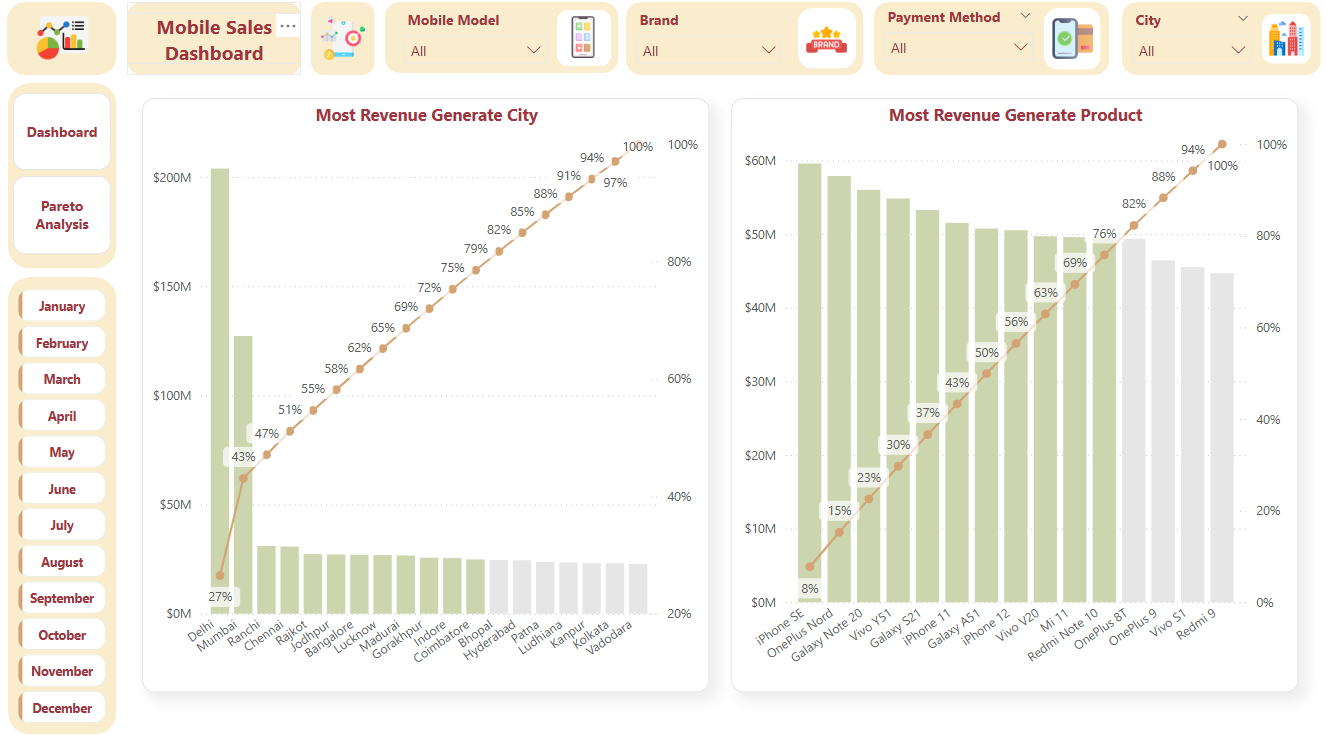

What the dashboard file says about the page in this screenshot:
{"tool":"powerbi","page":{"name":"Pareto Page","canvas":[1280,720],"ordinal":1},"visuals":[{"type":"shape","box":[9.7,9.7,105,70],"z":0,"group":"g4"},{"type":"shape","box":[603,9.7,227.6,70],"z":0,"group":"g5"},{"type":"shape","box":[841.3,9.7,225.7,70],"z":0,"group":"g7"},{"type":"shape","box":[1078.7,9.7,190.6,70],"z":0},{"type":"slicer","fields":{"Values":["dim_payment.Payment Method"]},"box":[841.3,9.7,163.4,69.1],"z":1000,"group":"g7"},{"type":"image","box":[15.5,12.6,94.3,63.2],"z":1000,"group":"g4"},{"type":"slicer","fields":{"Values":["dim_product.Brand"]},"box":[603,12.6,159.4,66.1],"z":1000,"group":"g5"},{"type":"shape","box":[10.7,87.5,104.1,178],"z":1000},{"type":"slicer","fields":{"Values":["dim_city.City"]},"box":[1078.7,12.6,134.2,64.2],"z":2000},{"type":"shape","box":[768.2,15.5,55.7,58.4],"z":2000,"group":"g5"},{"type":"shape","box":[1004.7,15.5,54.5,59.3],"z":2000,"group":"g7"},{"type":"shape","box":[124.5,9.7,167.3,70],"z":3000,"group":"g3"},{"type":"group","id":"g1","title":"Group 1","box":[371.6,9.7,223.7,68.1],"z":3000},{"type":"image","box":[1003.7,20.4,56.4,48.6],"z":3000,"group":"g7"},{"type":"image","box":[771.1,21.4,49.9,48.6],"z":3000,"group":"g5"},{"type":"group","id":"g2","title":"Group 2","box":[301.5,9.7,61.3,70],"z":4000},{"type":"shape","box":[10.7,273.3,104.1,438.7],"z":4000,"group":"g6"},{"type":"group","id":"g3","title":"Group 3","box":[124.5,9.7,167.3,70],"z":5000},{"type":"textbox","title":"Mobile Sales Dashboard","box":[124.5,20.4,167.3,48.6],"z":5000,"group":"g3"},{"type":"group","id":"g4","title":"Group 4","box":[9.7,9.7,105,70],"z":6000},{"type":"shape","box":[301.5,9.7,61.3,70],"z":6000,"group":"g2"},{"type":"shape","box":[371.6,9.7,223.7,68.1],"z":7000,"group":"g1"},{"type":"group","id":"g5","title":"Group 5","box":[603,9.7,227.6,70],"z":7000},{"type":"group","id":"g6","title":"Group 6","box":[10.7,273.3,104.1,438.7],"z":8000},{"type":"group","id":"g7","title":"Group 7","box":[841.3,9.7,225.7,70],"z":9000},{"type":"shape","box":[1212.9,21.4,46.7,47.7],"z":10000},{"type":"image","box":[1212.9,23.3,47.7,42.8],"z":11000},{"type":"advancedSlicerVisual","fields":{"Values":["dim_calendar.Month Name"]},"box":[15.6,280.1,94.3,428.9],"z":11000,"group":"g6"},{"type":"image","box":[306.4,15.5,51.6,57.4],"z":12000,"group":"g2"},{"type":"lineClusteredColumnComboChart","title":"Most Revenue Generate Product","fields":{"Category":["dim_product.Mobile Model"],"Y":["KPI Measures Table.Total Revenue"],"Y2":["Pareton Measures.Product pareto"]},"box":[703.8,101.6,543.6,570.5],"z":12000},{"type":"slicer","fields":{"Values":["dim_product.Mobile Model"]},"box":[380.1,12.5,156.7,64.3],"z":13000,"group":"g1"},{"type":"lineClusteredColumnComboChart","title":"Most Revenue Generate City","fields":{"Y":["KPI Measures Table.Total Revenue"],"Y2":["Pareton Measures.City Pareto"],"Category":["dim_city.City"]},"box":[139,101.6,543.6,570.5],"z":13000},{"type":"shape","box":[536.8,17.3,51.9,53.9],"z":13500,"group":"g1"},{"type":"image","box":[536.8,18.2,50,50.1],"z":14000,"group":"g1"},{"type":"actionButton","box":[15.3,96.8,94,73.8],"z":14000},{"type":"actionButton","box":[15.3,176.4,94,74.8],"z":15000}]}

Visuals, with their boxes in screenshot pixels (x1, y1, x2, y2), scaled from the page's 1280x720 canvas onto the 1326x735 screenshot:
shape: bbox=[10, 10, 119, 81]
shape: bbox=[625, 10, 860, 81]
shape: bbox=[872, 10, 1105, 81]
shape: bbox=[1117, 10, 1315, 81]
slicer - dim_payment.Payment Method: bbox=[872, 10, 1041, 80]
image: bbox=[16, 13, 114, 77]
slicer - dim_product.Brand: bbox=[625, 13, 790, 80]
shape: bbox=[11, 89, 119, 271]
slicer - dim_city.City: bbox=[1117, 13, 1256, 78]
shape: bbox=[796, 16, 854, 75]
shape: bbox=[1041, 16, 1097, 76]
shape: bbox=[129, 10, 302, 81]
"Group 1" group: bbox=[385, 10, 617, 79]
image: bbox=[1040, 21, 1098, 70]
image: bbox=[799, 22, 851, 71]
"Group 2" group: bbox=[312, 10, 376, 81]
shape: bbox=[11, 279, 119, 727]
"Group 3" group: bbox=[129, 10, 302, 81]
"Mobile Sales Dashboard" textbox: bbox=[129, 21, 302, 70]
"Group 4" group: bbox=[10, 10, 119, 81]
shape: bbox=[312, 10, 376, 81]
shape: bbox=[385, 10, 617, 79]
"Group 5" group: bbox=[625, 10, 860, 81]
"Group 6" group: bbox=[11, 279, 119, 727]
"Group 7" group: bbox=[872, 10, 1105, 81]
shape: bbox=[1256, 22, 1305, 71]
image: bbox=[1256, 24, 1306, 67]
advancedSlicerVisual - dim_calendar.Month Name: bbox=[16, 286, 114, 724]
image: bbox=[317, 16, 371, 74]
"Most Revenue Generate Product" lineClusteredColumnComboChart: bbox=[729, 104, 1292, 686]
slicer - dim_product.Mobile Model: bbox=[394, 13, 556, 78]
"Most Revenue Generate City" lineClusteredColumnComboChart: bbox=[144, 104, 707, 686]
shape: bbox=[556, 18, 610, 73]
image: bbox=[556, 19, 608, 70]
actionButton: bbox=[16, 99, 113, 174]
actionButton: bbox=[16, 180, 113, 256]
